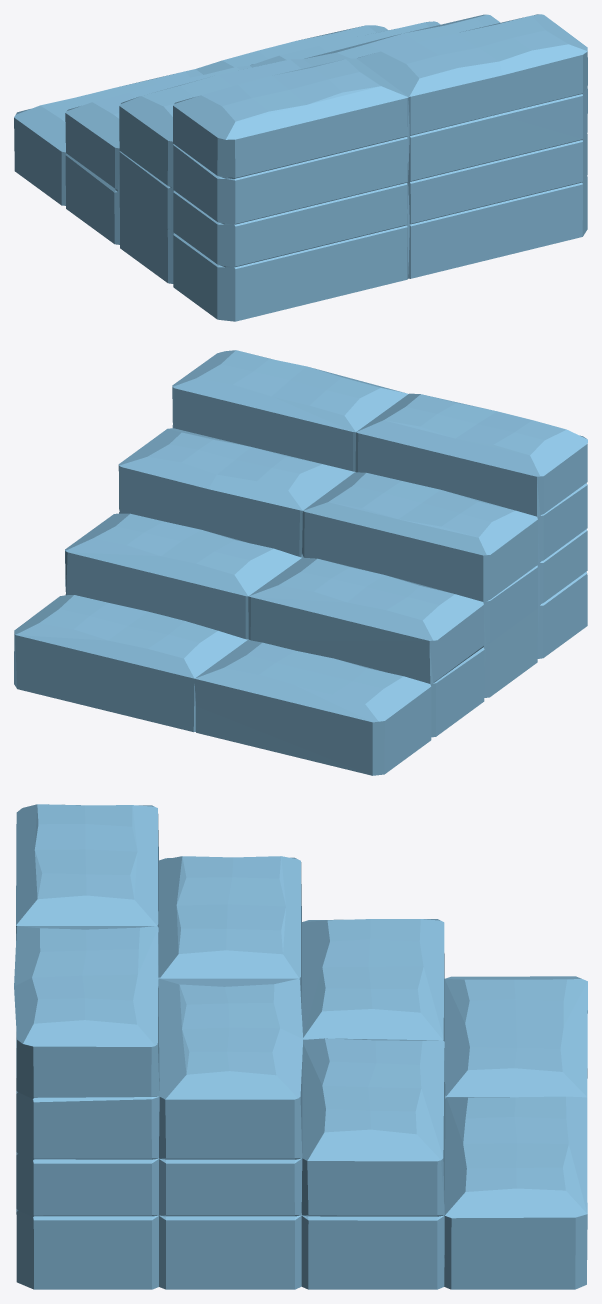
File: brick stairs style 0.fbx
3 renders of one model, top to bottom at view 1: azimuth 30°, elevation 25°; view 2: azimuth 150°, elevation 25°; view 3: azimuth 270°, elevation 25°, orthographic. The views are drawn at different scales.
Parts seen in each view (by area): view 1: Cube.107; view 2: Cube.107; view 3: Cube.107.
Part boxes in pixels (x1,y1,x2,y2): Cube.107: (14,14,587,321); Cube.107: (14,350,587,775); Cube.107: (14,804,587,1289).
Bounding box in the file's own units: 301 × 150 × 301.
